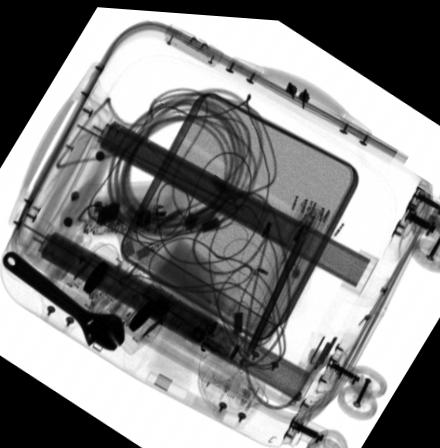Wrench: (1, 249, 124, 348)
